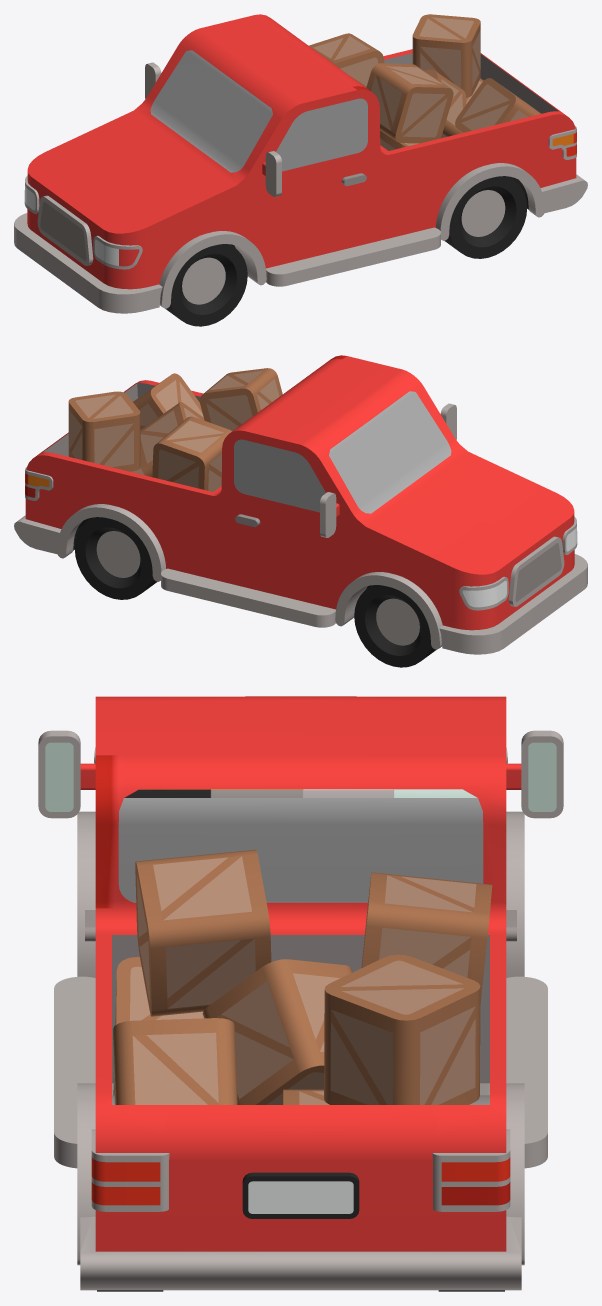
Rendered from Pickup City Mod.fbx.
3 views of the same model, one above another, from view 1: azimuth 30°, elevation 25°; view 2: azimuth 150°, elevation 25°; view 3: azimuth 270°, elevation 25° (orthographic). The views are drawn at different scales.
Parts seen in each view (by area): view 1: Pickup, Boxes, Wheels_Back, Wheels_Front; view 2: Pickup, Boxes, Wheels_Back, Wheels_Front; view 3: Pickup, Boxes.
Boxes of the visible parts, x1=… form: Pickup: x1=14, y1=14, x2=587, y2=313; Boxes: x1=309, y1=14, x2=540, y2=150; Wheels_Back: x1=444, y1=176, x2=527, y2=258; Wheels_Front: x1=165, y1=244, x2=247, y2=326; Pickup: x1=14, y1=355, x2=587, y2=654; Boxes: x1=68, y1=368, x2=282, y2=491; Wheels_Back: x1=74, y1=517, x2=157, y2=599; Wheels_Front: x1=354, y1=585, x2=436, y2=667; Pickup: x1=38, y1=696, x2=563, y2=1290; Boxes: x1=113, y1=849, x2=492, y2=1104.
Bounding box in the file's own units: 1005 × 405 × 481.
